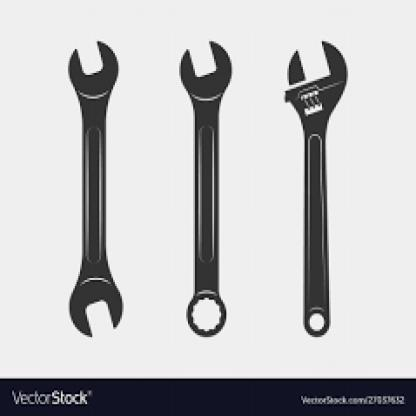Wrench: (282, 39, 351, 342), (67, 38, 124, 337), (179, 40, 232, 338)
